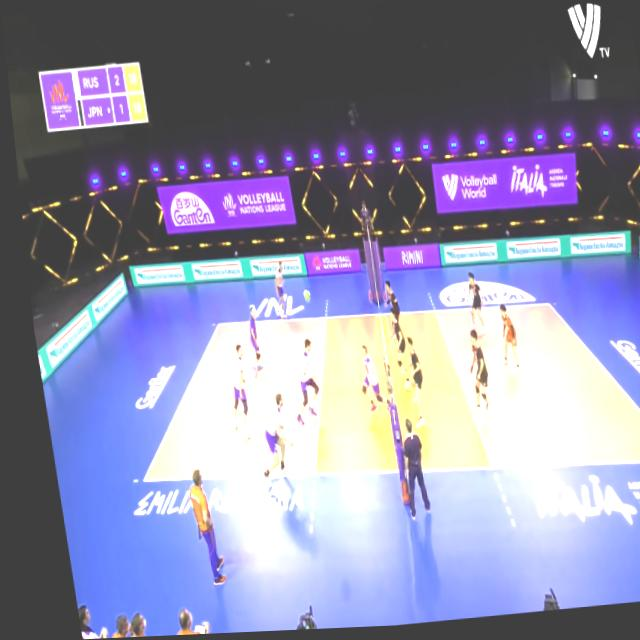player: (243, 390, 288, 484), (387, 334, 424, 435), (277, 337, 316, 429), (216, 344, 248, 442), (454, 328, 486, 425), (376, 311, 405, 392), (348, 346, 381, 416), (454, 276, 482, 345), (236, 306, 261, 381), (488, 307, 515, 372), (374, 283, 398, 339), (262, 264, 285, 321)
